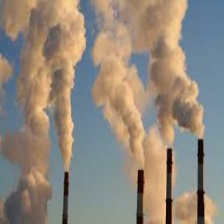smoke: (3, 1, 205, 140)
